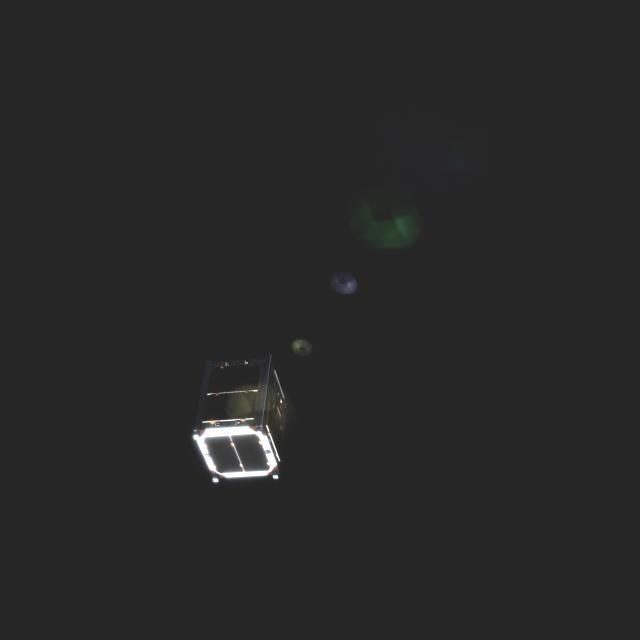satellite: (194, 353, 296, 494)
